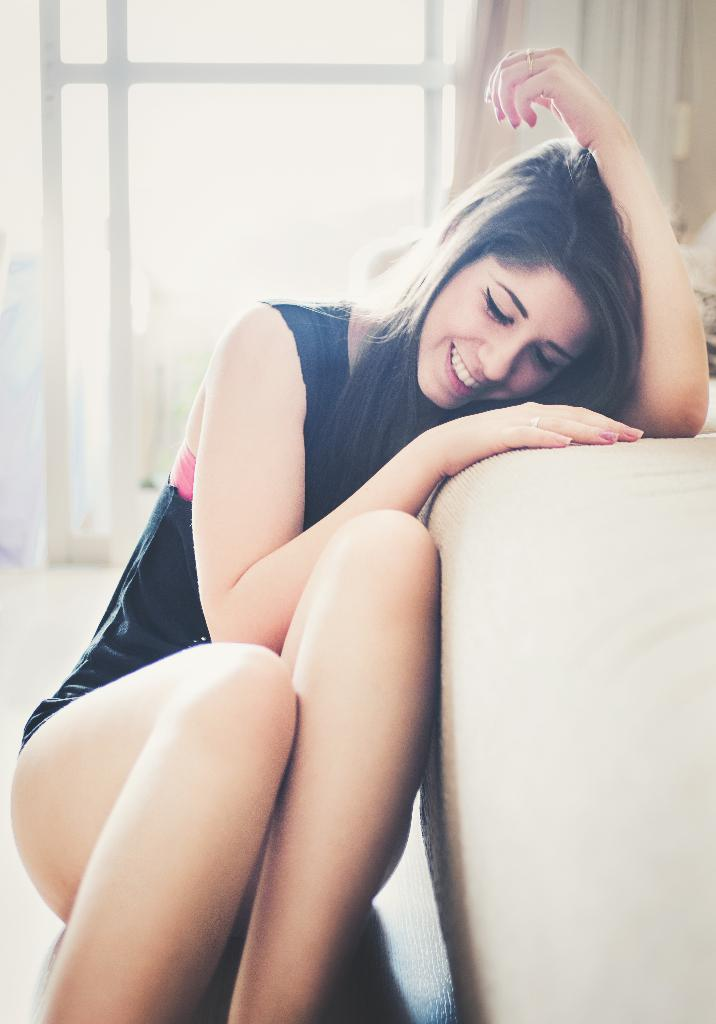face: (420, 243, 589, 427)
